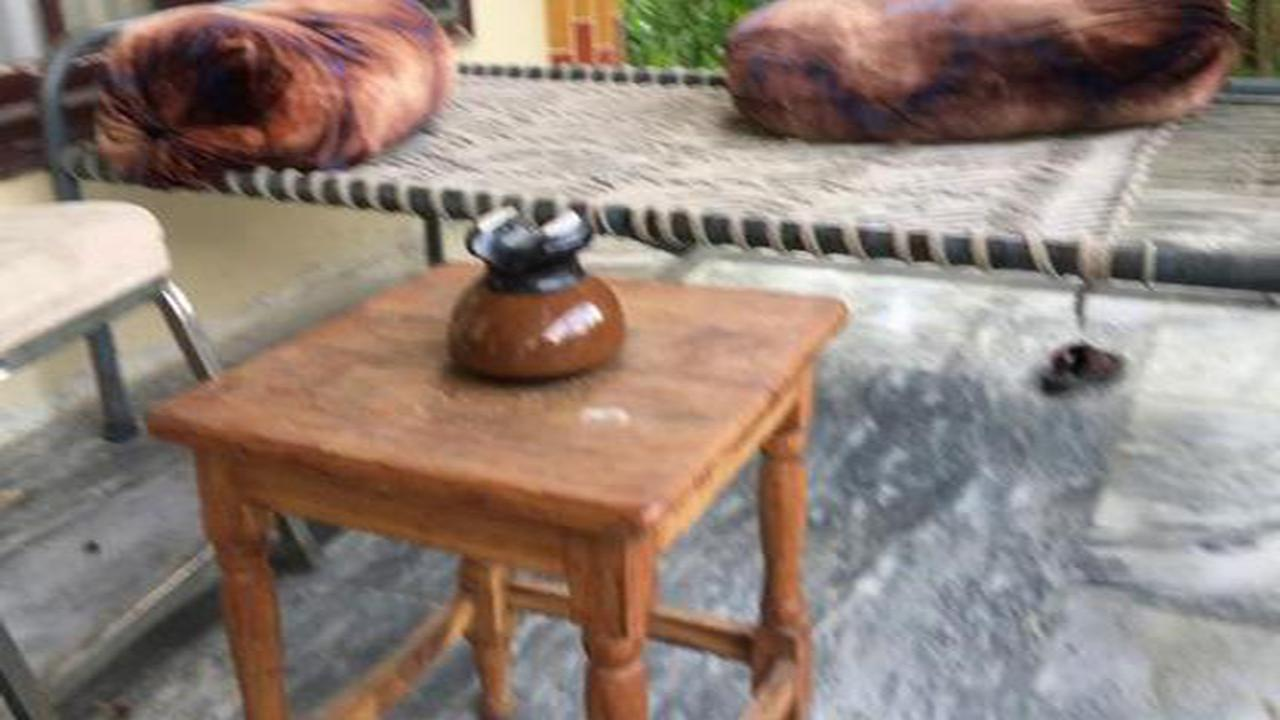insulator_pin: (428, 189, 653, 393)
